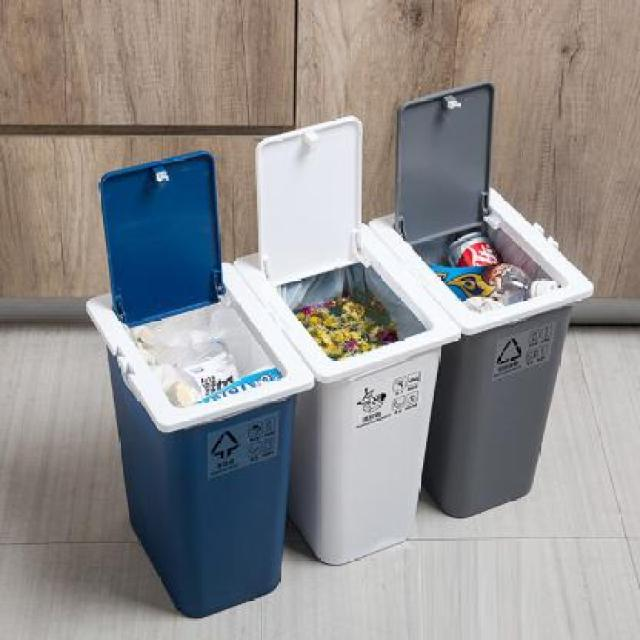garbage container: (77, 258, 315, 620), (285, 219, 444, 567)
